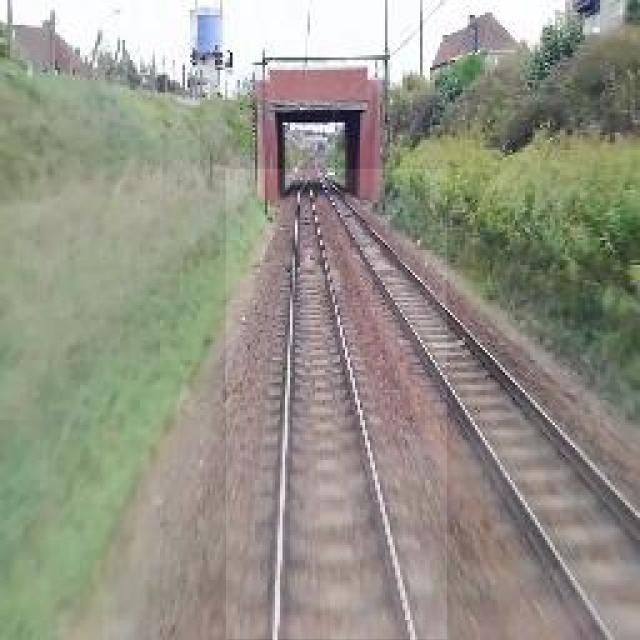rail: (227, 170, 448, 640)
